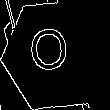O_S: (33, 28, 77, 82)
